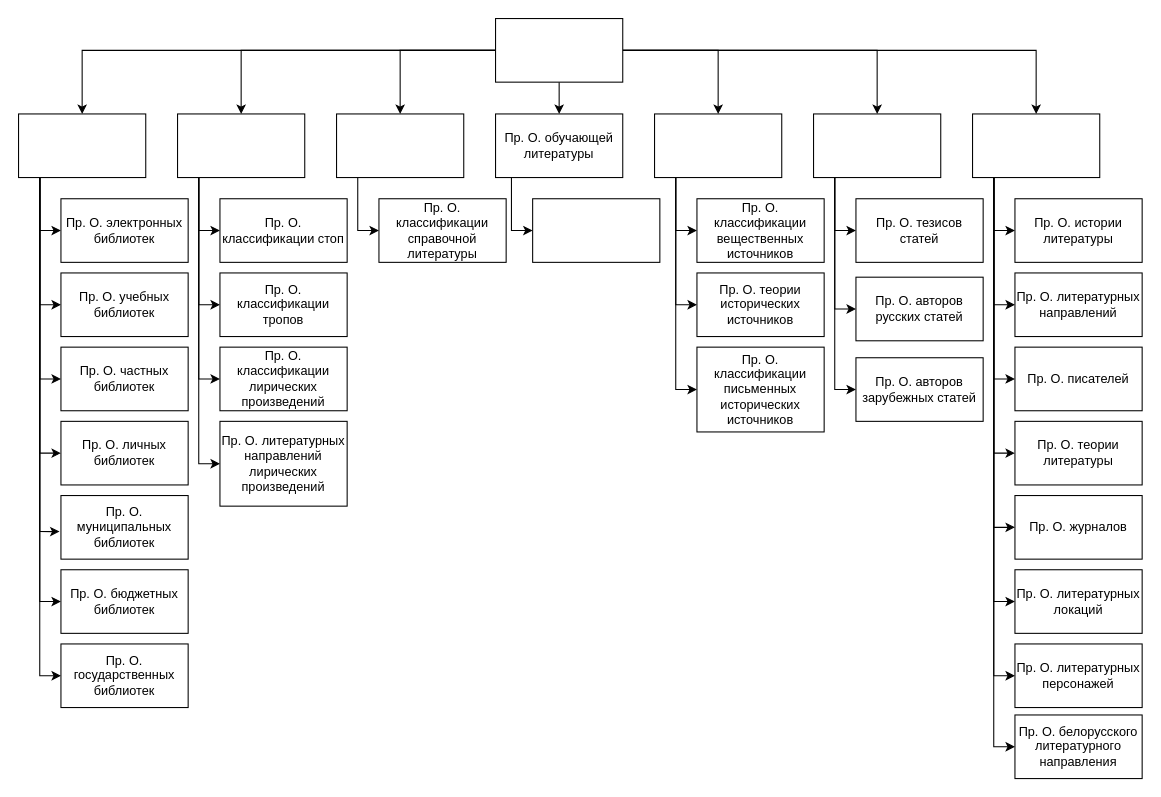
Image size: 1161x797. Some labels were removed from this diagram. Here are the shapes that lost their labels. From the top down, the centre of each, then its label:
point (558, 49): Пр. О. литературы
point (81, 145): Пр. О. библиотек
point (240, 145): Пр. О. лирических произведений
point (399, 145): Пр. О. справочной литературы
point (717, 145): Пр. О. исторических источников
point (876, 145): Пр. О. статей
point (1035, 145): Пр. О. библиографии
point (596, 230): Пр. О. классификации обучающей литературы
